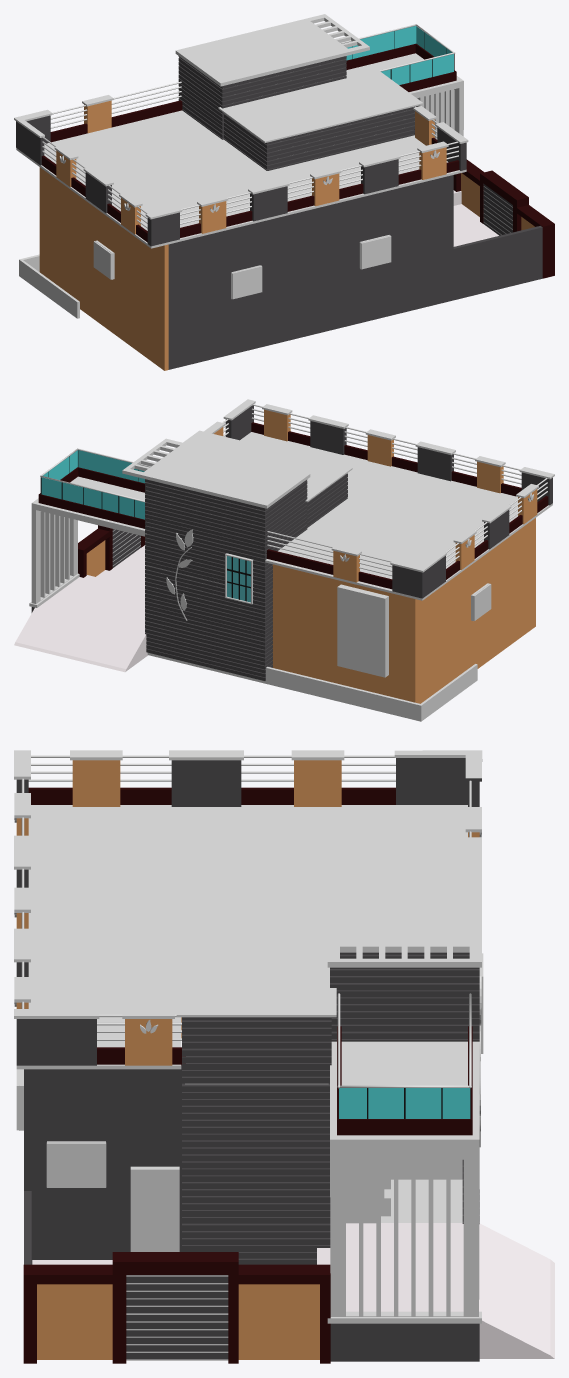
File: BuildingArch.glb
The picture shows the model from 3 angles, top to bottom: view 1: azimuth 30°, elevation 25°; view 2: azimuth 150°, elevation 25°; view 3: azimuth 270°, elevation 25°; orthographic projection. The views are drawn at different scales.
Visible parts, largest first — view 1: Cube.004, Cube.005, Cube.012, Cube, Cube.003, Cube.013, Cube.009, Cube.002, Cube.006, Cube.007, Cylinder.004, Cube.019 (+13 smaller); view 2: Cube, Cube.004, Cube.003, Cube.005, Cube.002, CTRL_Hole.001, Cube.012, Cube.013, Cube.007, Cube.006, Cube.009, Cube.008 (+12 smaller); view 3: Cube.012, Cube.005, Cube, Cube.003, Cube.002, Cube.004, Cube.009, Cube.019, Cube.013, Plane, Cube.006, Cube.001 (+6 smaller).
Part boxes in pixels (x1,y1,x2,y2): Cube.004: (39,167,542,370); Cube.005: (16,110,466,248); Cube.012: (218,69,423,170); Cube: (175,14,369,139); Cube.003: (41,26,498,246); Cube.013: (83,153,400,246); Cube.009: (453,159,554,278); Cube.002: (346,53,463,139); Cube.006: (14,109,52,165); Cube.007: (19,254,79,318); Cylinder.004: (180,141,458,224); Cube.019: (483,183,512,235); Cube: (122,438,310,683); Cube.004: (272,518,535,703); Cube.003: (14,422,548,672); Cube.005: (240,432,552,600); Cube.002: (29,476,193,620); CTRL_Hole.001: (337,584,388,677); Cube.012: (156,430,352,527); Cube.013: (308,415,554,549); Cube.007: (264,664,477,721); Cube.006: (390,551,446,598); Cube.009: (78,525,145,577); Cube.008: (40,450,253,604); Cube.012: (176,882,336,1264); Cube.005: (16,805,467,1069); Cube: (327,837,481,1223); Cube.003: (28,787,554,1358); Cube.002: (327,976,481,1361); Cube.004: (24,1017,181,1264); Cube.009: (23,1252,330,1363); Cube.019: (126,1275,228,1360); Cube.013: (14,750,243,976); Plane: (346,1159,462,1223); Cube.006: (394,750,482,806); Cube.001: (14,1009,99,1065).
Size of the model in its own units: 16.43 by 7.24 by 11.03.
